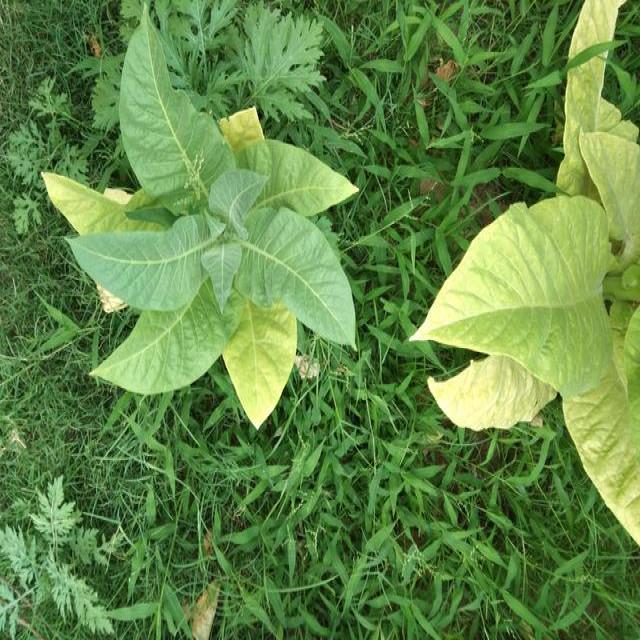crop: (41, 19, 373, 430)
